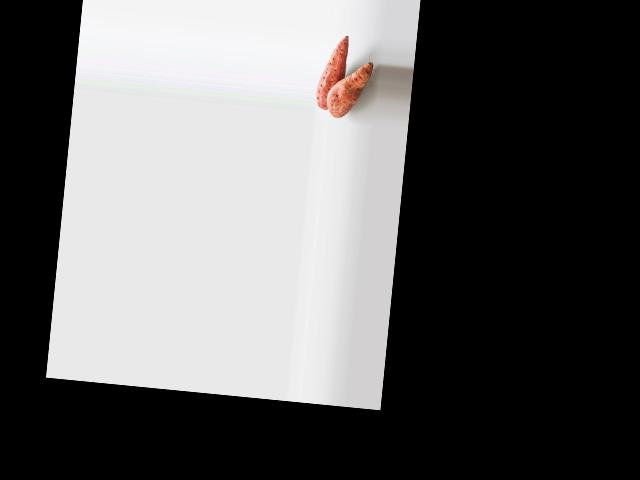sweet_potato: (315, 38, 349, 111)
